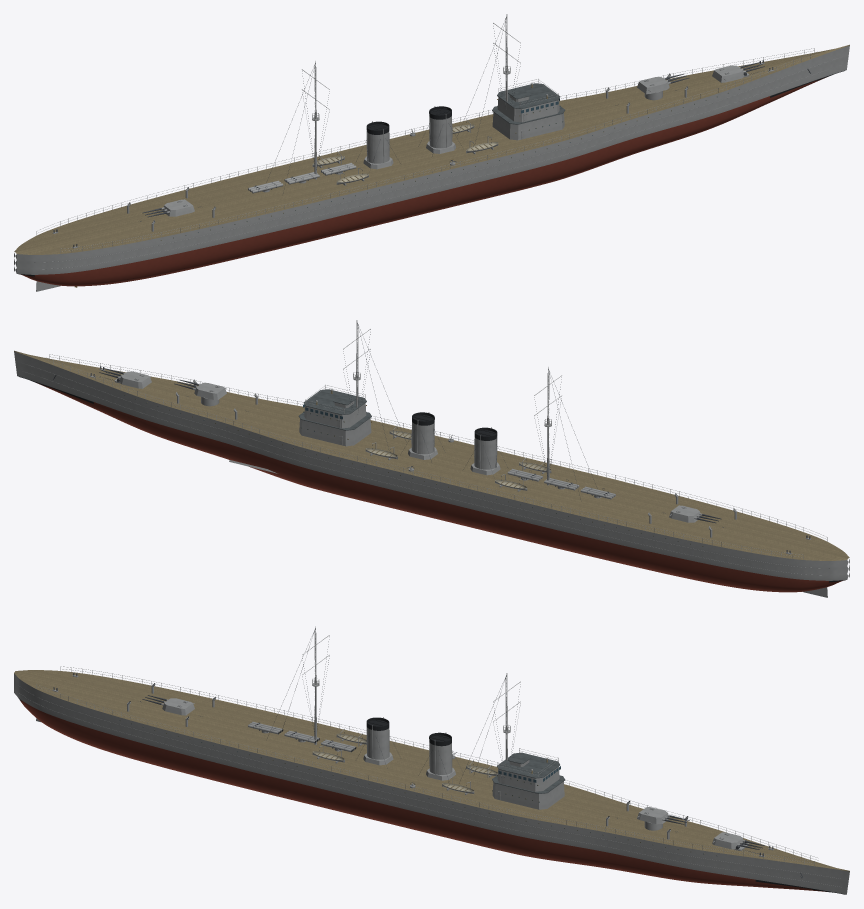
Rendered from ecole_cl29.glb.
3 renders of one model, top to bottom at view 1: azimuth 30°, elevation 25°; view 2: azimuth 150°, elevation 25°; view 3: azimuth 330°, elevation 25°, orthographic.
Visible parts, largest first — view 1: Éclaireur fast cruiser; view 2: Éclaireur fast cruiser; view 3: Éclaireur fast cruiser.
Part boxes in pixels (x1,y1,x2,y2): Éclaireur fast cruiser: [14, 14, 849, 291]; Éclaireur fast cruiser: [14, 320, 849, 597]; Éclaireur fast cruiser: [14, 626, 849, 894].
Bounding box in the file's own units: 181 × 34.16 × 17.49.
Materials: 9 (8 with a texture image).
